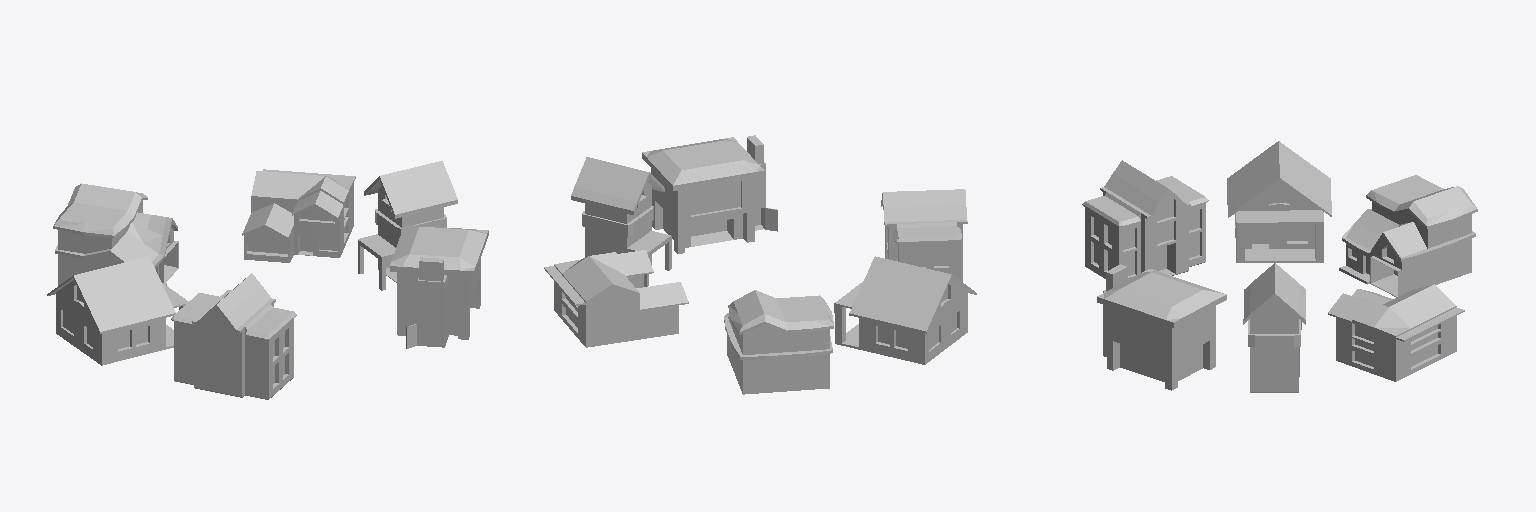
File: houses-uv-mapped.obj
3 renders of one model, left to right at view 1: azimuth 30°, elevation 25°; view 2: azimuth 150°, elevation 25°; view 3: azimuth 270°, elevation 25°, orthographic.
Visible parts, largest first — view 1: HousesOBJ_group2_House_6; view 2: HousesOBJ_group2_House_6; view 3: HousesOBJ_group2_House_6.
Part boxes in pixels (x1,y1,x2,y2): HousesOBJ_group2_House_6: (47, 161, 488, 399); HousesOBJ_group2_House_6: (544, 135, 976, 394); HousesOBJ_group2_House_6: (1082, 141, 1477, 392).
Bounding box in the file's own units: 35.34 × 9.63 × 32.89.